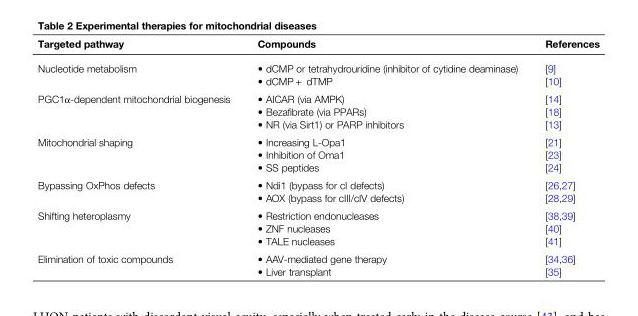table: (37, 37, 598, 276)
table column: (243, 37, 530, 276), (37, 37, 243, 276), (530, 37, 598, 276)
table column header: (37, 37, 598, 55)
table row: (37, 55, 598, 74), (37, 37, 598, 55), (37, 190, 598, 206), (37, 233, 598, 249), (37, 74, 598, 89), (37, 89, 598, 104), (37, 117, 598, 132), (37, 132, 598, 147), (37, 160, 598, 175), (37, 175, 598, 190), (37, 206, 598, 221), (37, 249, 598, 264), (37, 104, 598, 117), (37, 147, 598, 160), (37, 221, 598, 233), (37, 264, 598, 276)
table spanning cell: (37, 89, 243, 132), (37, 132, 243, 175), (37, 206, 243, 249), (37, 55, 243, 89), (37, 175, 243, 206), (37, 249, 243, 276)
